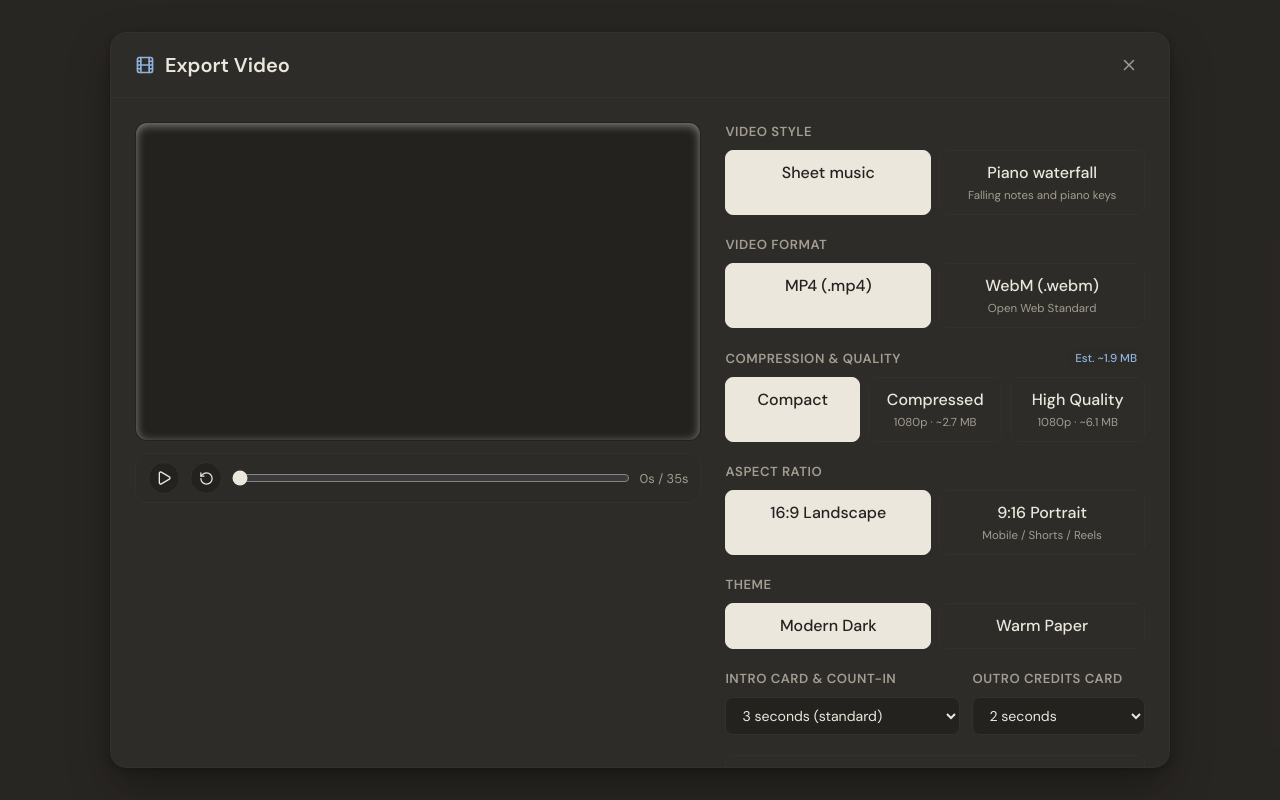
Scenario: ScoreVideoExportModal › toggles play/pause state for preview
Click the button named "Play preview".
click(164, 478)  # box top-left (148, 462), bottom-right (180, 494)
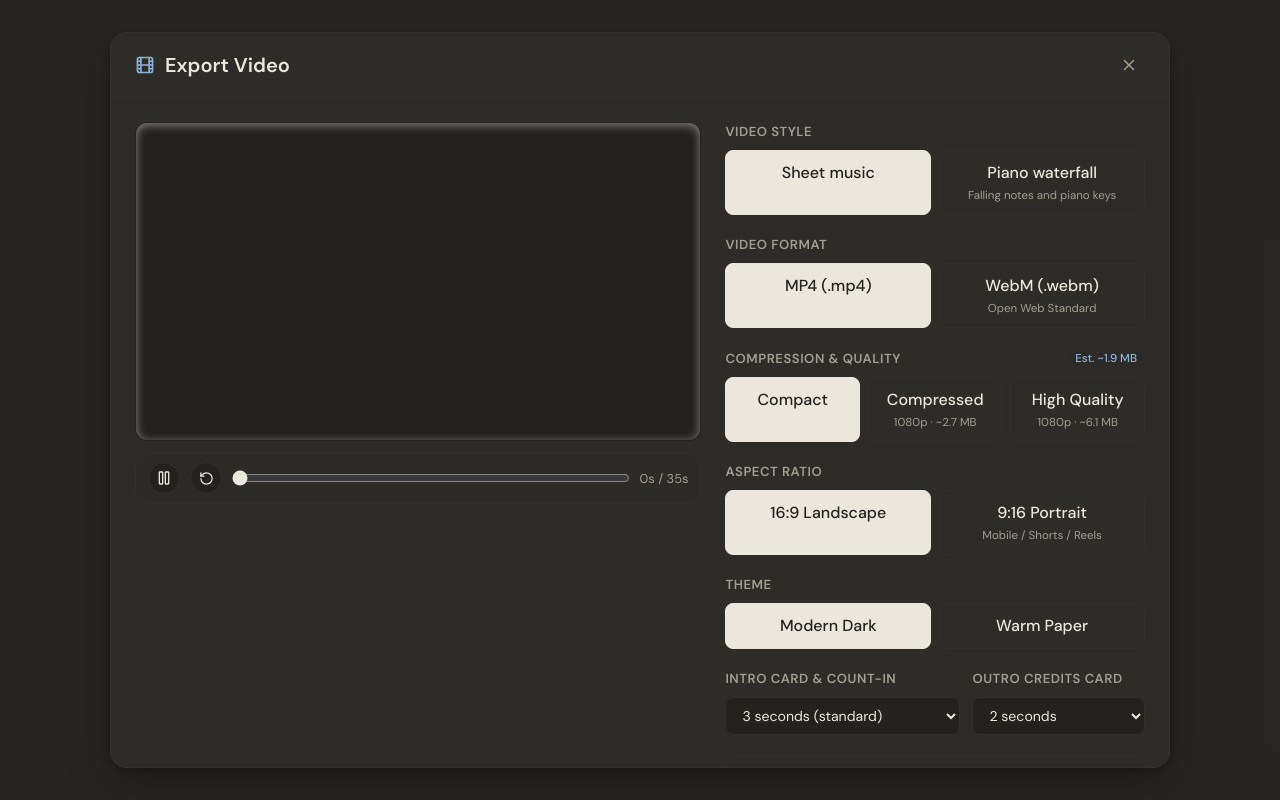
Check: the button named "Pause preview" is shown
Click the button named "Pause preview".
click(164, 478)  # box top-left (148, 462), bottom-right (180, 494)
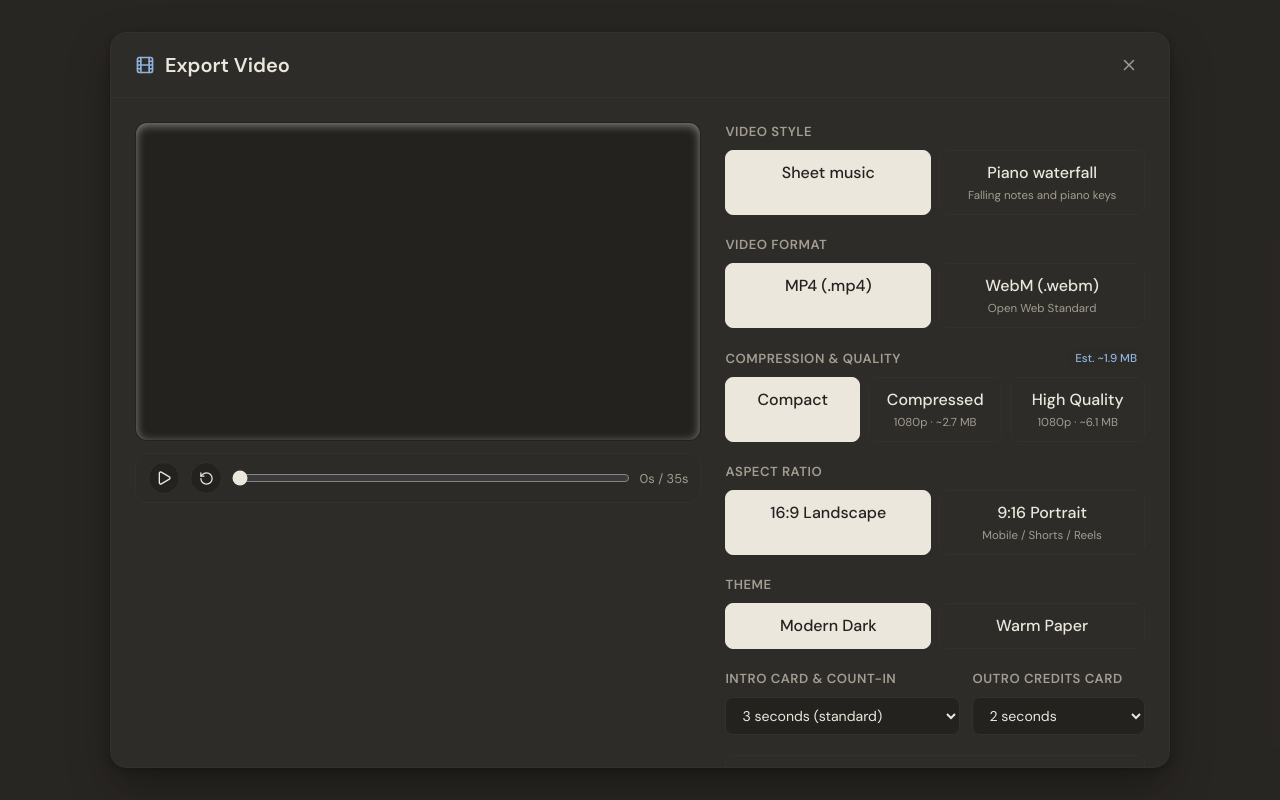
Check: the button named "Play preview" is shown, box top-left (148, 462), bottom-right (180, 494)
